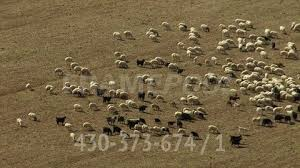sheep: (228, 134, 244, 148), (205, 123, 221, 136), (99, 123, 112, 136), (260, 116, 274, 128), (54, 114, 67, 126), (123, 29, 137, 40), (251, 115, 263, 127), (43, 82, 56, 93), (169, 50, 181, 61), (134, 56, 146, 67), (279, 49, 290, 60), (81, 122, 93, 132), (254, 105, 266, 115), (13, 116, 24, 126), (68, 131, 78, 142), (160, 125, 171, 135), (51, 66, 63, 75), (187, 35, 199, 44), (27, 110, 37, 120), (112, 31, 122, 41), (119, 101, 129, 111), (269, 28, 279, 38), (62, 121, 73, 130), (118, 60, 129, 69), (201, 22, 210, 33), (215, 45, 226, 54), (197, 81, 208, 90), (73, 101, 82, 111), (210, 54, 219, 64), (229, 87, 238, 97), (278, 23, 287, 33), (260, 49, 270, 58), (62, 54, 73, 62), (146, 89, 154, 100), (79, 68, 91, 75), (110, 123, 119, 132), (88, 102, 99, 109), (147, 34, 157, 41), (190, 130, 199, 137), (160, 21, 167, 28), (184, 83, 192, 89), (24, 82, 30, 88)
